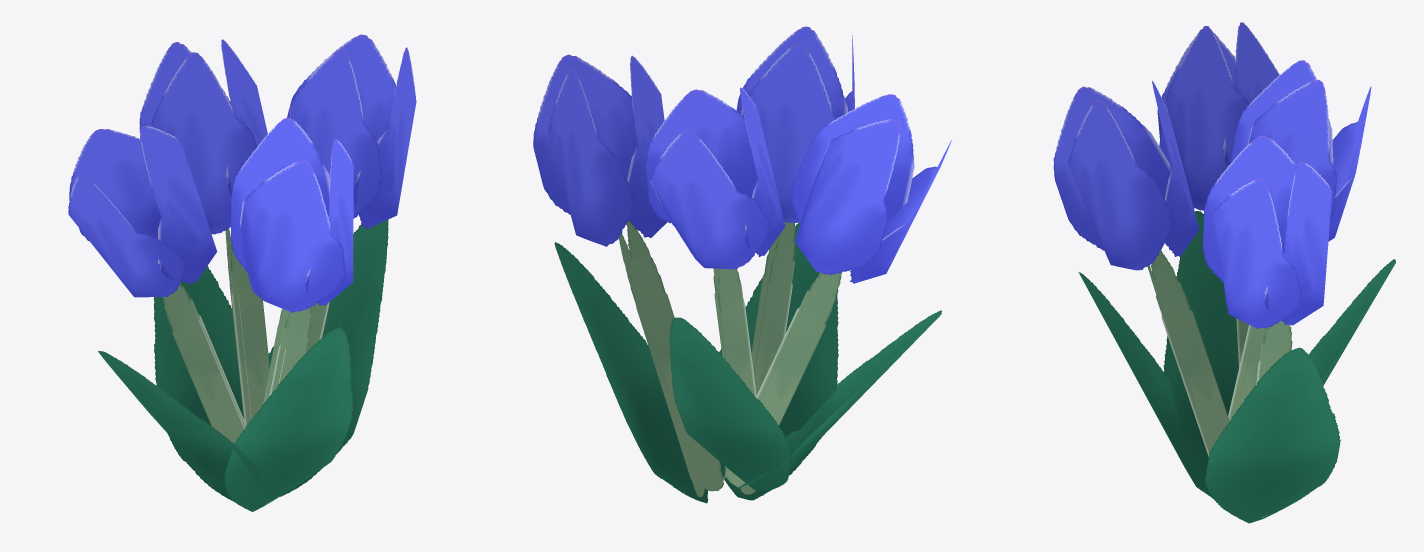
File: Tulip_b_Cluster.fbx
The picture shows the model from 3 angles, left to right: view 1: azimuth 30°, elevation 25°; view 2: azimuth 150°, elevation 25°; view 3: azimuth 270°, elevation 25°; orthographic projection.
Parts seen in each view (by area): view 1: polySurface511; view 2: polySurface511; view 3: polySurface511.
Part boxes in pixels (bbox=[...]): polySurface511: bbox=[68, 34, 416, 511]; polySurface511: bbox=[533, 26, 951, 503]; polySurface511: bbox=[1053, 22, 1395, 523].
Bounding box in the file's own units: 0.3008 × 0.324 × 0.2443.
